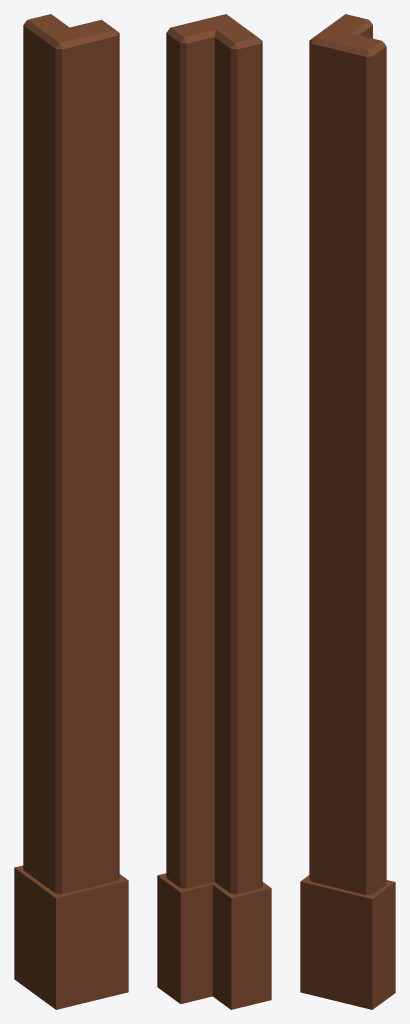
Rendered from canto_lambri_madeira.glb.
3 renders of one model, left to right at view 1: azimuth 30°, elevation 25°; view 2: azimuth 210°, elevation 25°; view 3: azimuth 330°, elevation 25°, orthographic.
Visible parts, largest first — view 1: canto_lambri_madeira; view 2: canto_lambri_madeira; view 3: canto_lambri_madeira.
Part boxes in pixels (box(x1,y1,x2,y2)): canto_lambri_madeira: box(14, 14, 128, 1009); canto_lambri_madeira: box(157, 14, 271, 1009); canto_lambri_madeira: box(300, 14, 395, 1009).
Size of the model in its own units: 0.068 by 0.86 by 0.068.
